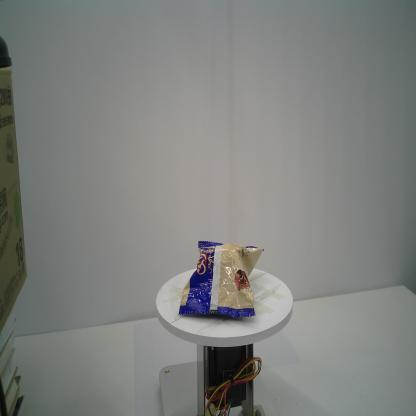Dessert: (177, 240, 264, 318)
